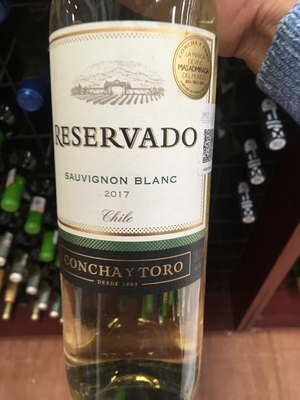reservado sauvignon blanc: (38, 7, 220, 400)
